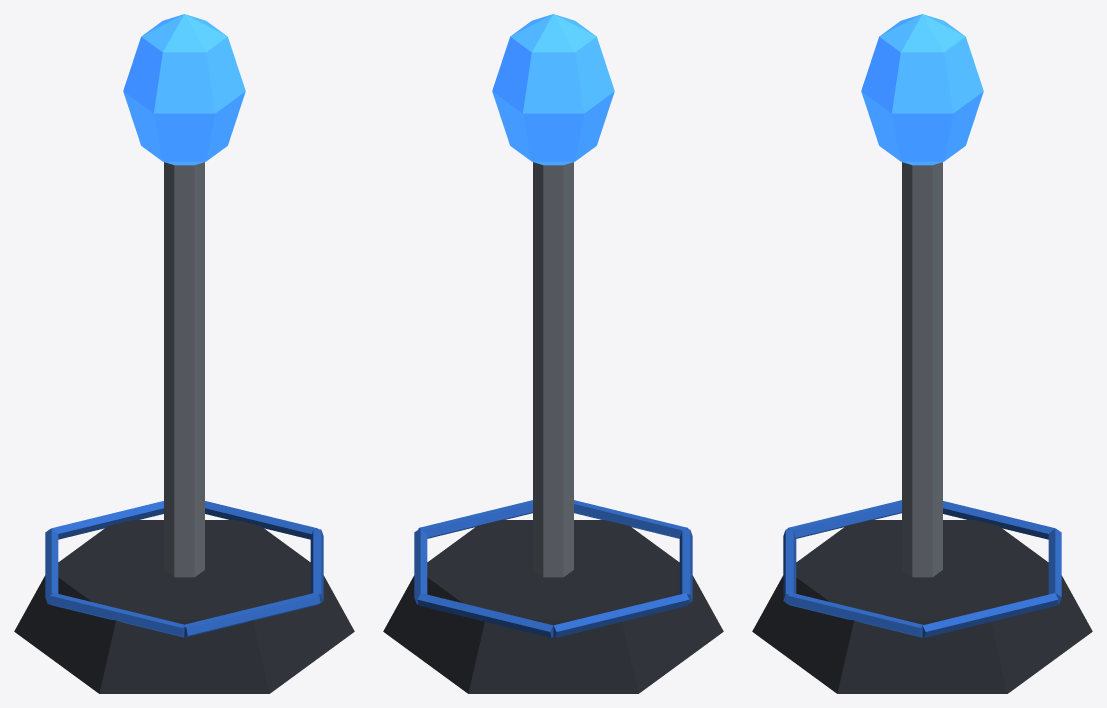
Rendered from respawn_beacon_blue.glb.
3 renders of one model, left to right at view 1: azimuth 30°, elevation 25°; view 2: azimuth 150°, elevation 25°; view 3: azimuth 270°, elevation 25°, orthographic.
Parts seen in each view (by area): view 1: respawn_beacon_blue; view 2: respawn_beacon_blue; view 3: respawn_beacon_blue.
Boxes of the visible parts, x1,y1,x2,y2 form: respawn_beacon_blue: [14, 14, 354, 693]; respawn_beacon_blue: [383, 14, 723, 693]; respawn_beacon_blue: [752, 14, 1092, 693].
Bounding box in the file's own units: 0.9329 × 2 × 1.
